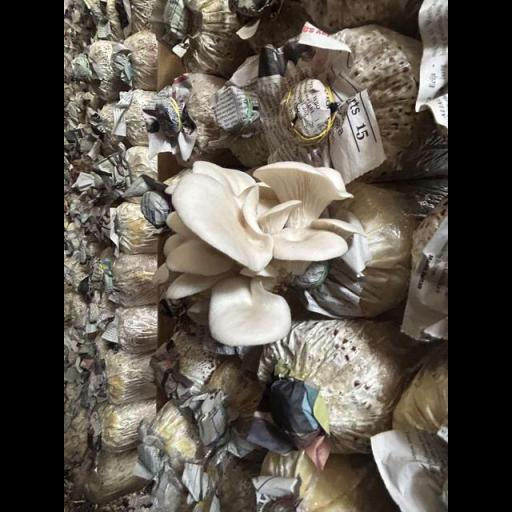White Oyster Mushroom: (154, 158, 363, 344)
